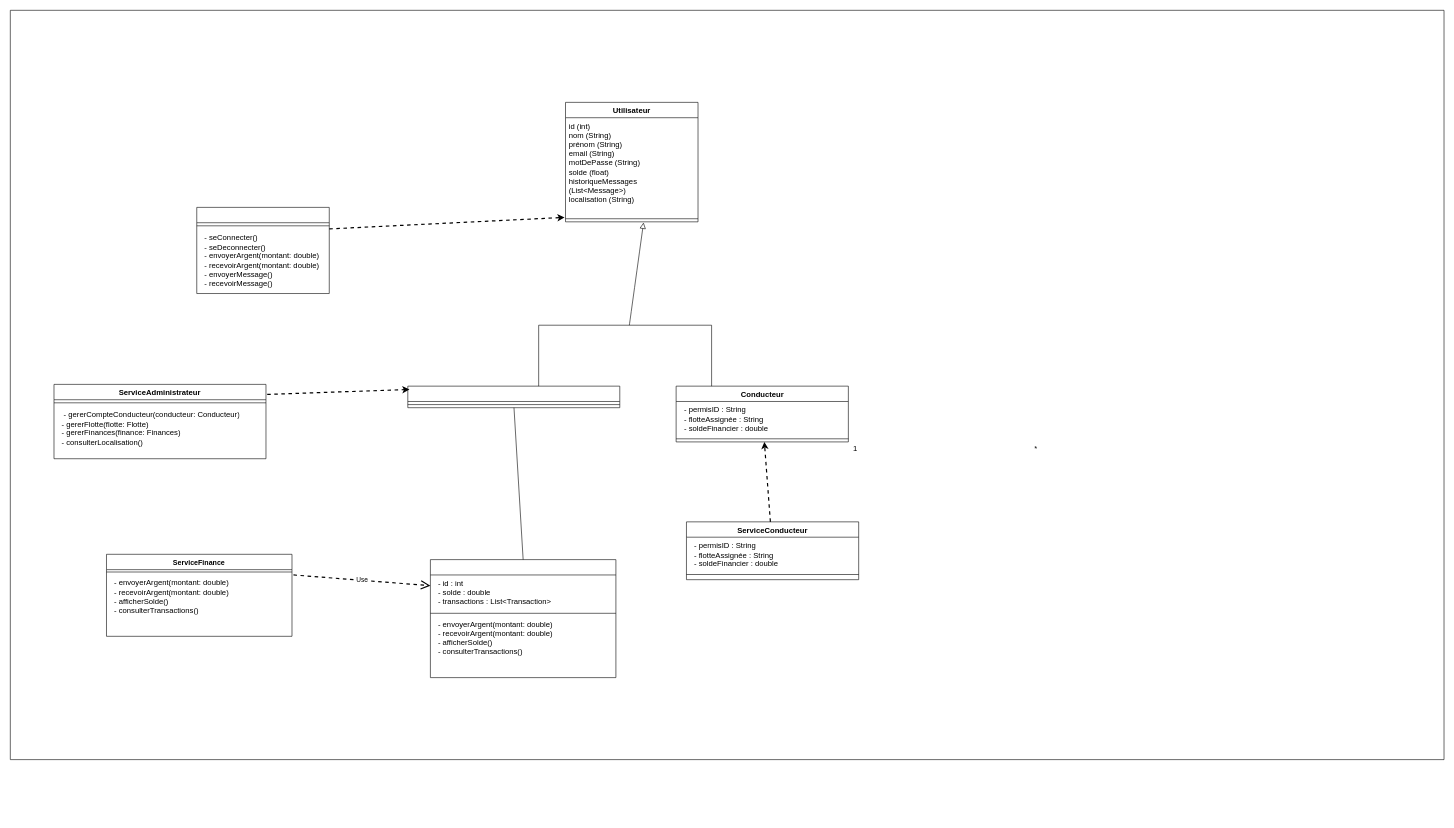
Image size: 1454x828. Some labels were removed from this diagram. Each missing label, with the box of its shape:
Administrateur: (407, 386, 620, 408)
Finance: (430, 559, 616, 678)
ServiceUtilisateur: (196, 207, 329, 294)
